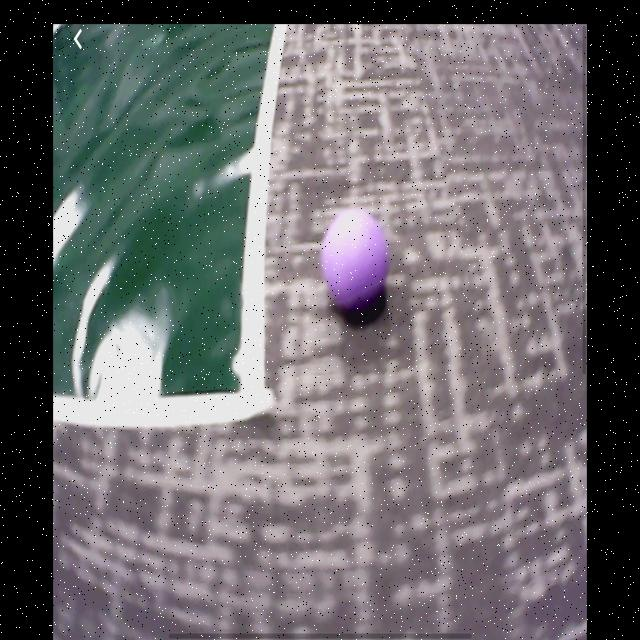ball: (323, 211, 390, 305)
